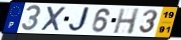3: (21, 3, 42, 33), (138, 9, 159, 35)
6: (91, 7, 112, 34)
H: (112, 7, 141, 35)
J: (67, 6, 93, 34)
X: (40, 5, 68, 32)
